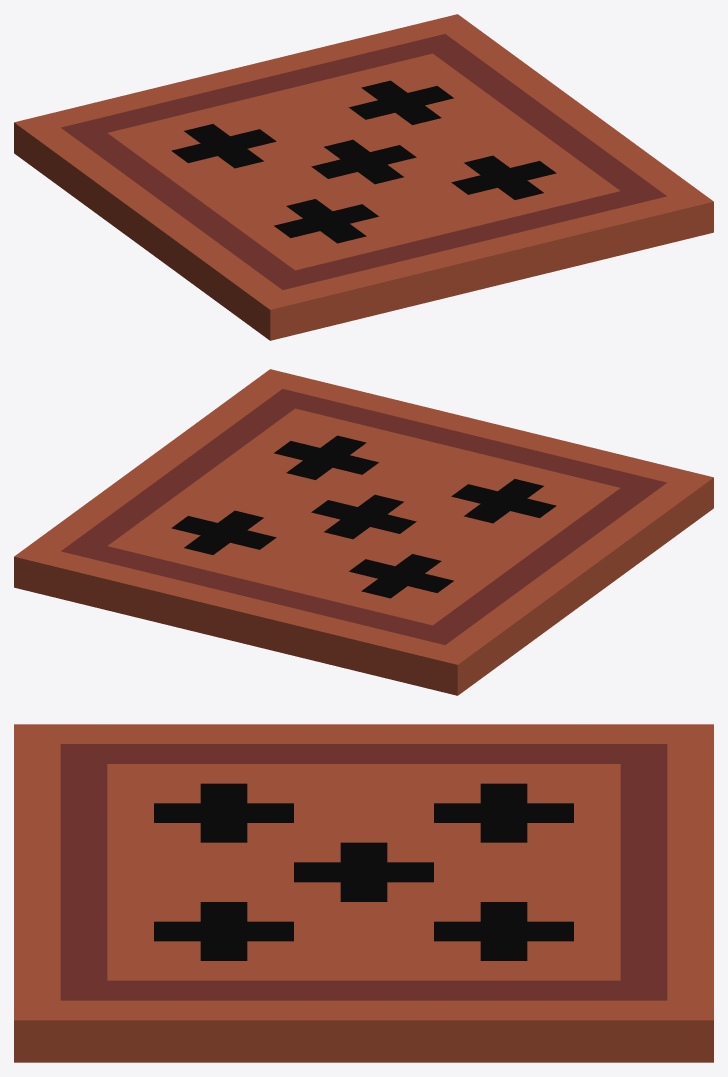
File: dungeon_b_b_ground_b_b.obj
3 views of the same model, one above another, from view 1: azimuth 30°, elevation 25°; view 2: azimuth 150°, elevation 25°; view 3: azimuth 270°, elevation 25° (orthographic). The views are drawn at different scales.
Bounding box in the file's own units: 1.5 × 0.1 × 1.5.
1 material, 1 textured.
